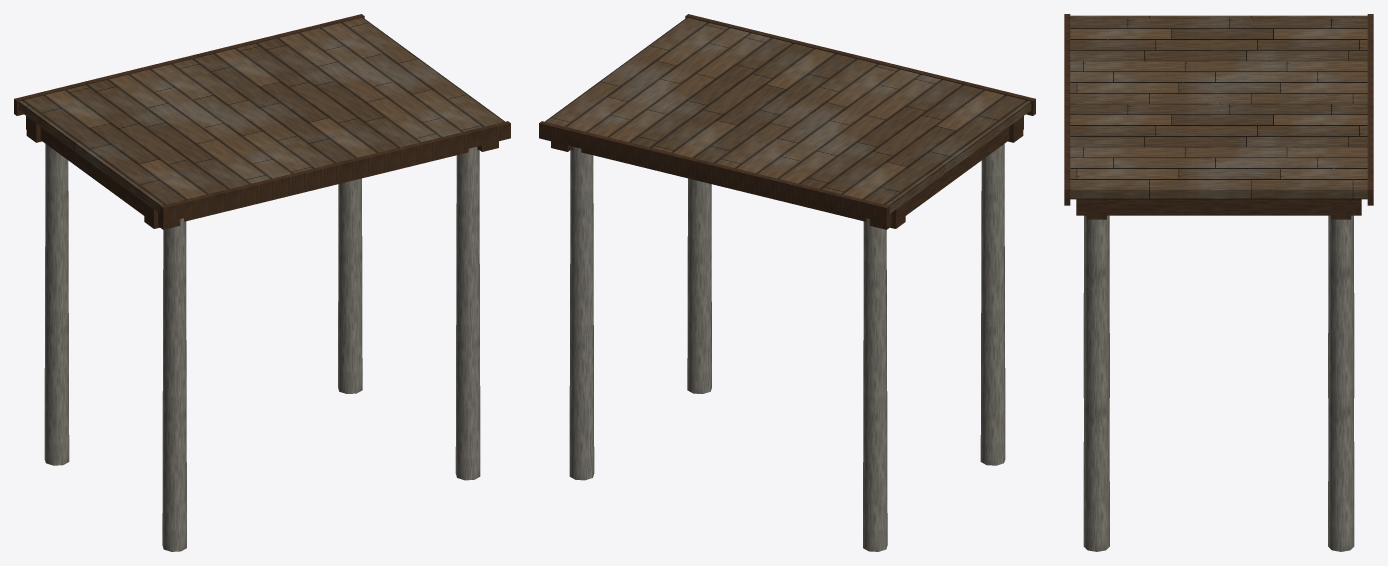
Rendered from SM_Art_Pier_405x300x100_P400.gltf.
3 views of the same model, side by side, from view 1: azimuth 30°, elevation 25°; view 2: azimuth 150°, elevation 25°; view 3: azimuth 270°, elevation 25° (orthographic). The views are drawn at different scales.
Parts seen in each view (by area): view 1: SM_Art_Pier_405x300x100_P400; view 2: SM_Art_Pier_405x300x100_P400; view 3: SM_Art_Pier_405x300x100_P400.
Part boxes in pixels (x1,y1,x2,y2): SM_Art_Pier_405x300x100_P400: (14,14,510,551); SM_Art_Pier_405x300x100_P400: (539,14,1035,551); SM_Art_Pier_405x300x100_P400: (1064,14,1373,551).
Bounding box in the file's own units: 4.09 × 4.01 × 3.04.
3 materials, 3 textured.
